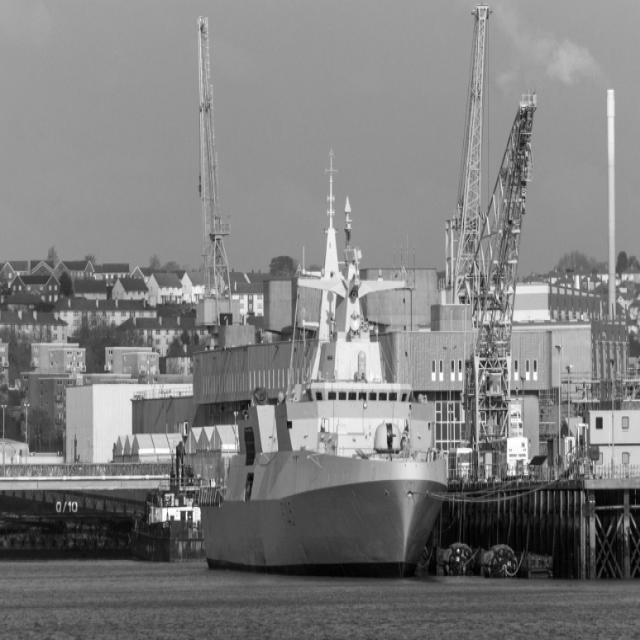Fragata: (194, 132, 455, 583)
